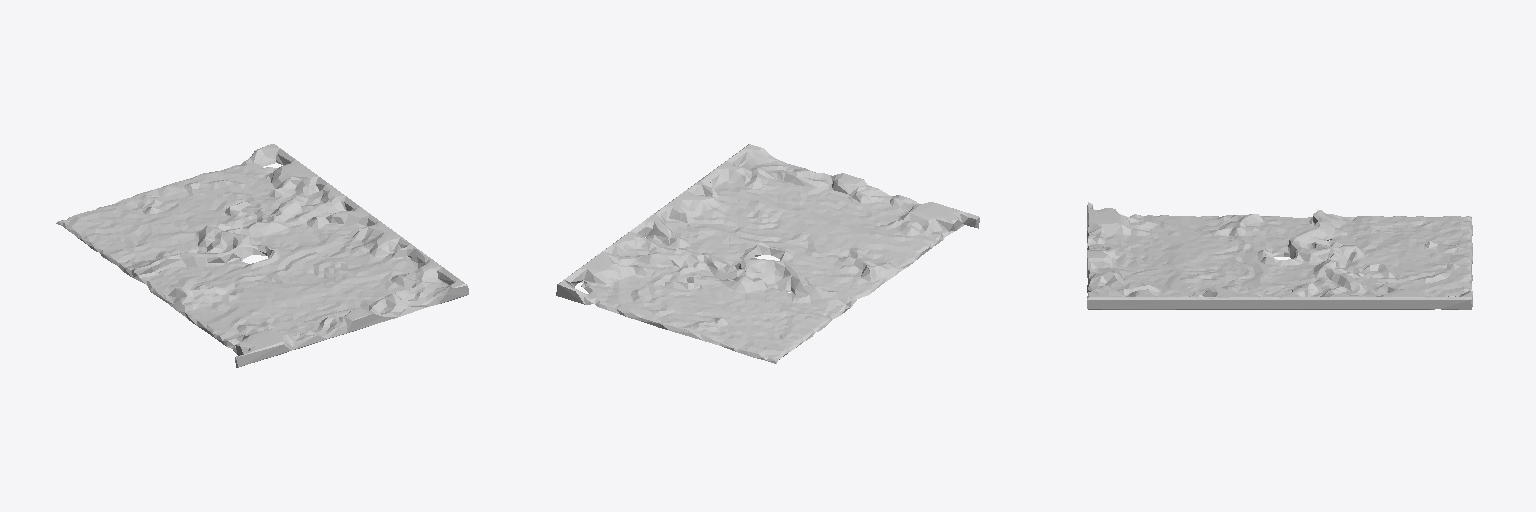
3 renders of one model, left to right at view 1: azimuth 30°, elevation 25°; view 2: azimuth 150°, elevation 25°; view 3: azimuth 270°, elevation 25°, orthographic.
Parts seen in each view (by area): view 1: Liquid_Domain; view 2: Liquid_Domain; view 3: Liquid_Domain.
Boxes of the visible parts, x1=… form: Liquid_Domain: x1=56, y1=144, x2=468, y2=367; Liquid_Domain: x1=556, y1=144, x2=979, y2=363; Liquid_Domain: x1=1087, y1=202, x2=1472, y2=309.
Size of the model in its own units: 117 by 13.84 by 168.